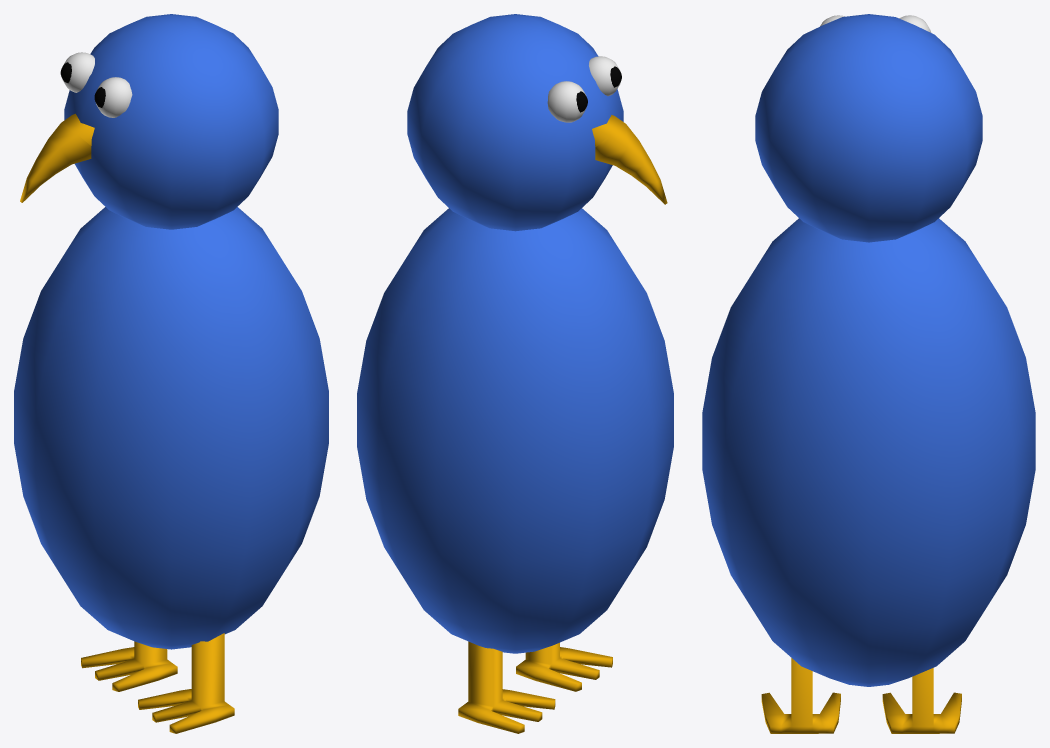
File: Avatar_Pinguin.glb
The picture shows the model from 3 angles, left to right: view 1: azimuth 30°, elevation 25°; view 2: azimuth 150°, elevation 25°; view 3: azimuth 270°, elevation 25°; orthographic projection. The views are drawn at different scales.
Visible parts, largest first — view 1: AdLer Avatar.005, Sphere.011, Plane.030, Plane.031, Plane.032, Sphere.014, Sphere.012; view 2: AdLer Avatar.005, Sphere.011, Plane.031, Plane.030, Plane.032, Sphere.012, Sphere.014; view 3: AdLer Avatar.005, Sphere.011, Plane.030, Plane.031.
Boxes of the visible parts, bbox=[...] form: AdLer Avatar.005: bbox=[14, 207, 328, 649]; Sphere.011: bbox=[64, 14, 278, 229]; Plane.030: bbox=[138, 633, 234, 733]; Plane.031: bbox=[81, 641, 177, 691]; Plane.032: bbox=[20, 113, 94, 202]; Sphere.014: bbox=[96, 77, 132, 117]; Sphere.012: bbox=[62, 52, 94, 92]; AdLer Avatar.005: bbox=[357, 208, 673, 653]; Sphere.011: bbox=[407, 14, 623, 231]; Plane.031: bbox=[458, 641, 555, 733]; Plane.030: bbox=[516, 642, 612, 691]; Plane.032: bbox=[592, 115, 667, 204]; Sphere.012: bbox=[547, 81, 586, 122]; Sphere.014: bbox=[589, 56, 620, 96]; AdLer Avatar.005: bbox=[702, 218, 1035, 686]; Sphere.011: bbox=[755, 14, 982, 242]; Plane.030: bbox=[761, 658, 840, 733]; Plane.031: bbox=[882, 668, 961, 733].
Bounding box in the file's own units: 0.8678 × 1.92 × 0.8258.
